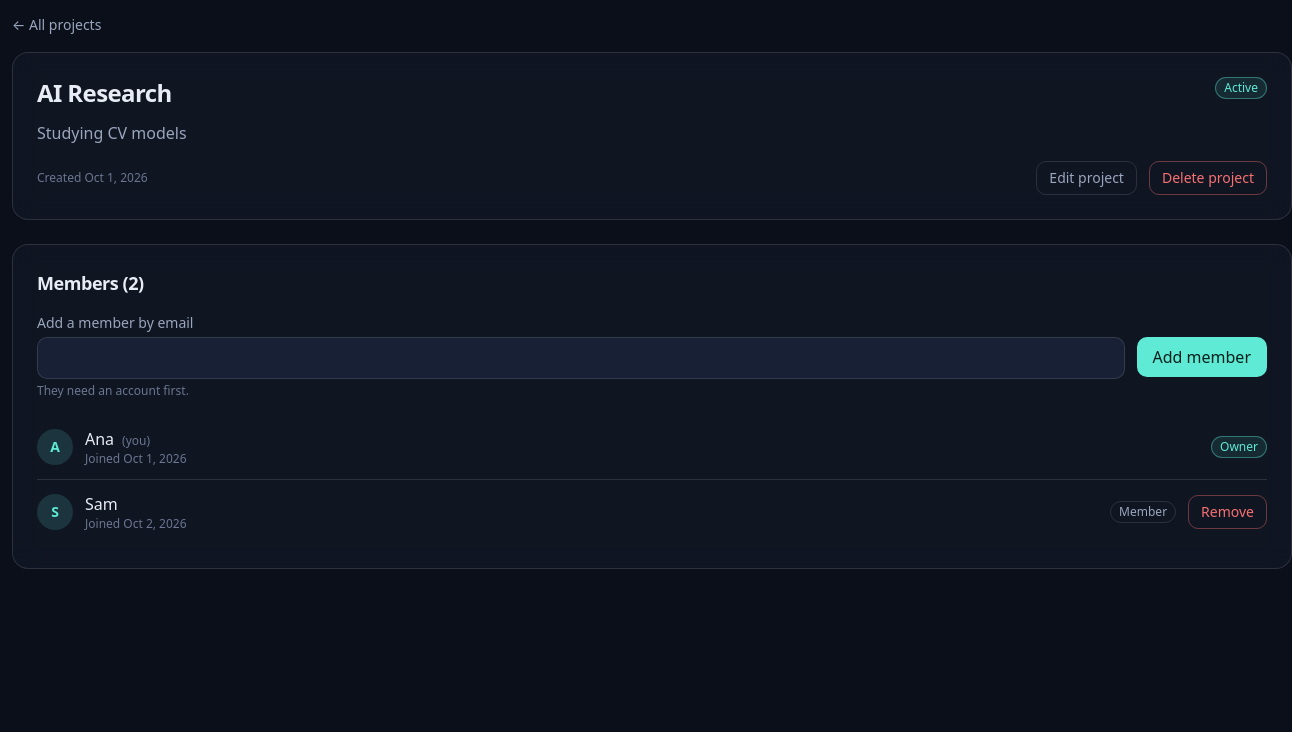
Test case: owner actions › shows why a member could not be removed and keeps them listed
The image size is (1292, 732).
Expected: the heading "AI Research" is shown, [37, 77, 172, 109]
Click the button with aria-label "Remove Sam" at [1228, 512], box [1188, 495, 1267, 529]
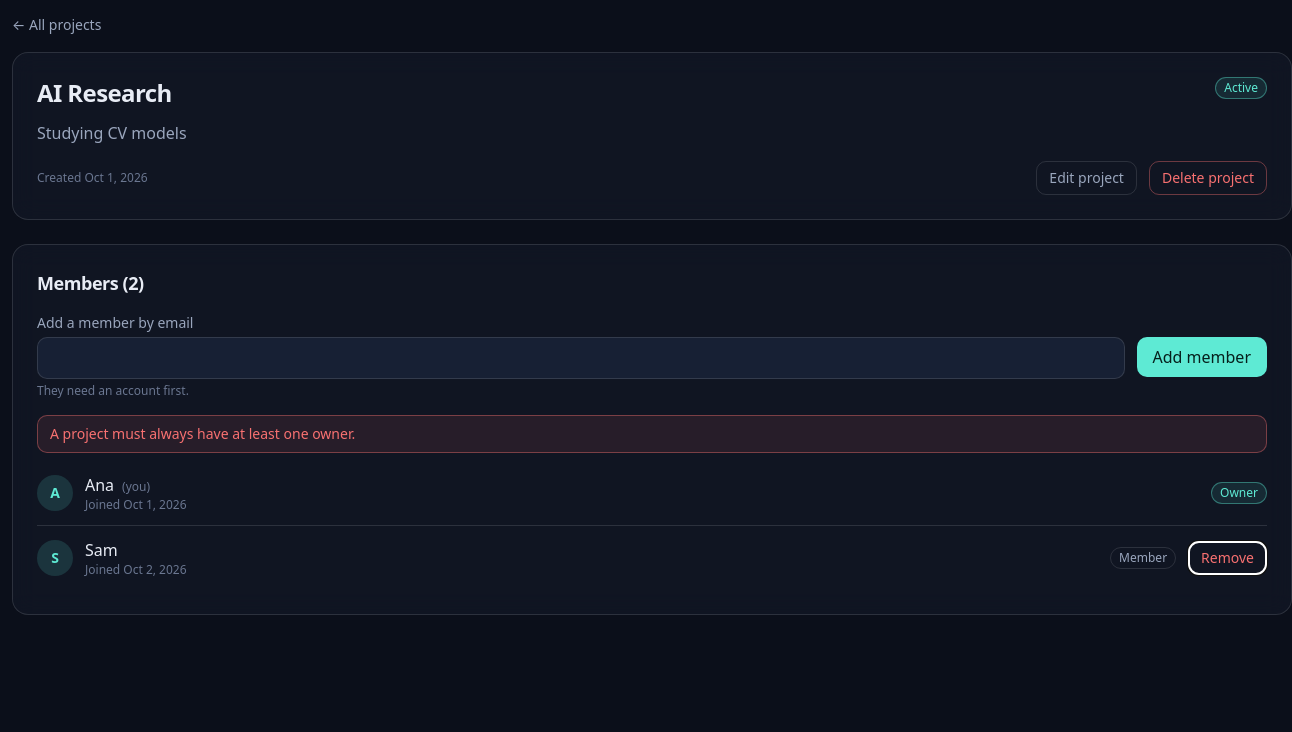
Expected: the text "Sam" is shown, [85, 539, 118, 561]
Result: the message reads "A project must always have at least one owner." at [50, 424, 355, 443]
